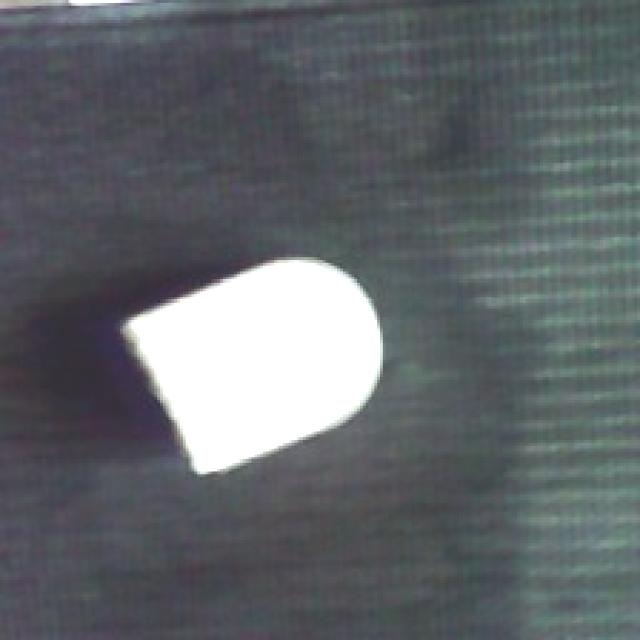defected: (112, 254, 388, 480)
